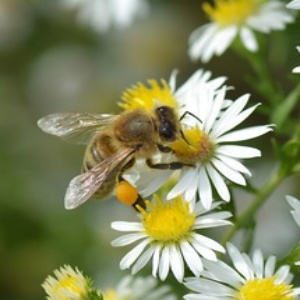bee: (36, 105, 211, 209)
